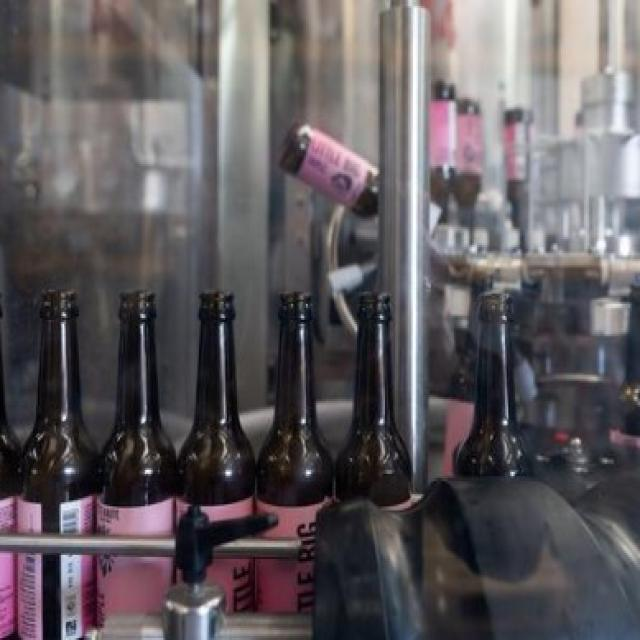electronic: (0, 283, 525, 640)
